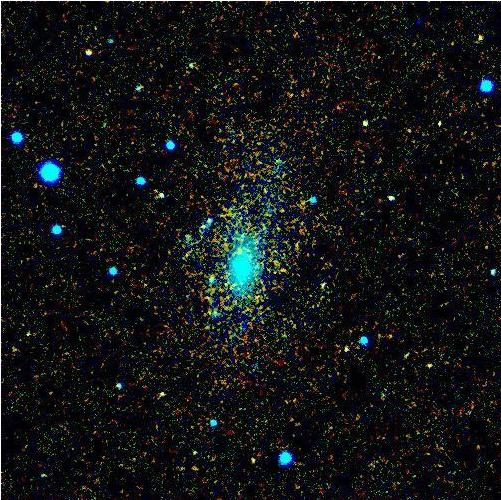star: (419, 348, 449, 378)
